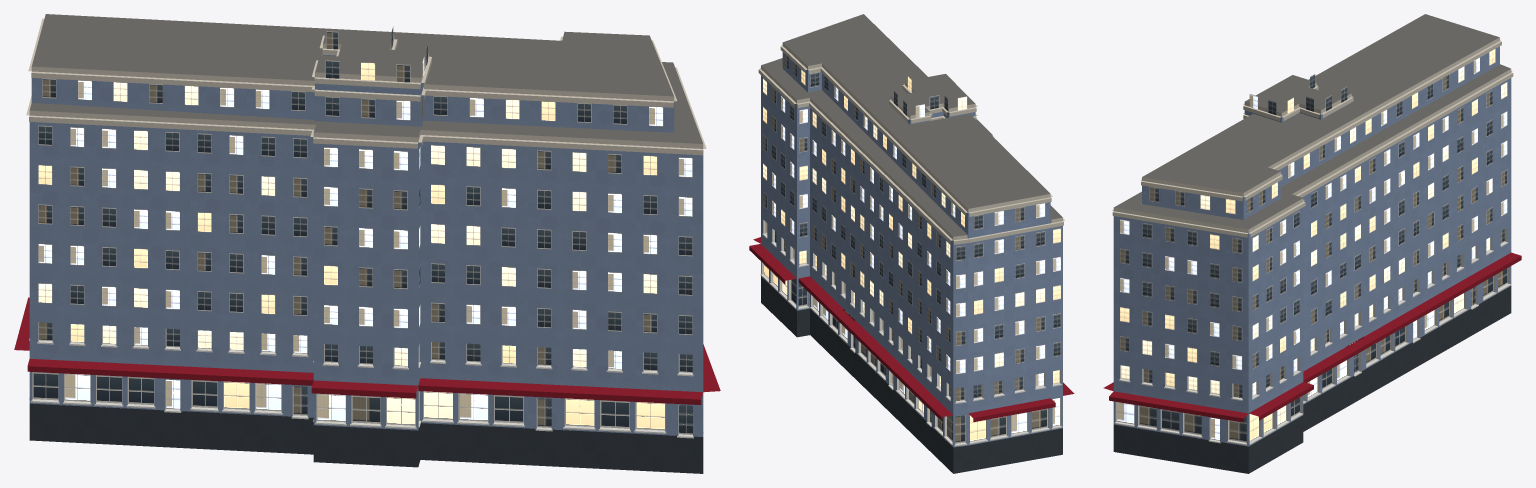
Rendered from langstrasse_blau.glb.
3 renders of one model, left to right at view 1: azimuth 30°, elevation 25°; view 2: azimuth 150°, elevation 25°; view 3: azimuth 270°, elevation 25°, orthographic. The views are drawn at different scales.
Visible parts, largest first — view 1: langstrasse_blau; view 2: langstrasse_blau; view 3: langstrasse_blau.
Boxes of the visible parts, x1,y1,x2,y2 form: langstrasse_blau: [14, 14, 720, 473]; langstrasse_blau: [749, 14, 1074, 473]; langstrasse_blau: [1103, 14, 1521, 473].
Bounding box in the file's own units: 47.28 × 31.83 × 41.66.
Materials: 3 (3 with a texture image).
